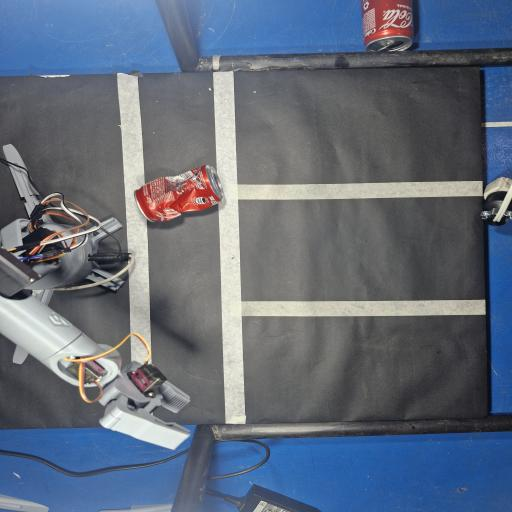lata_defectuoso: (135, 166, 223, 222)
